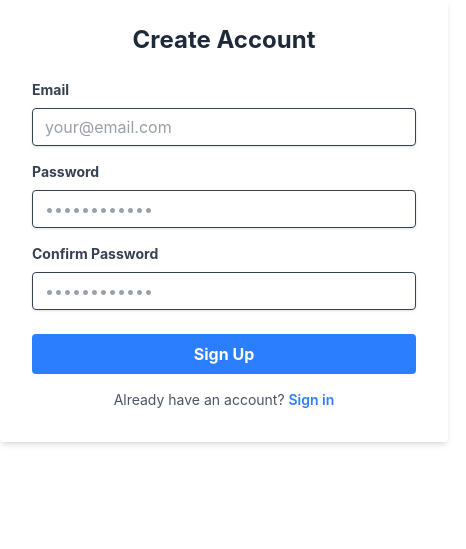
Test: RegisterForm › shows error when passwords do not match
Type "test@example.com" into the field labelled "Email" at (224, 127), box [32, 108, 416, 146]
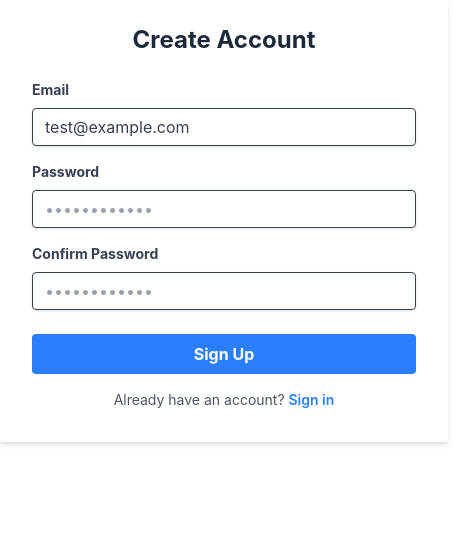
Type "ValidPassword123!" into the password field labelled "Password" at (224, 209), box [32, 190, 416, 228]
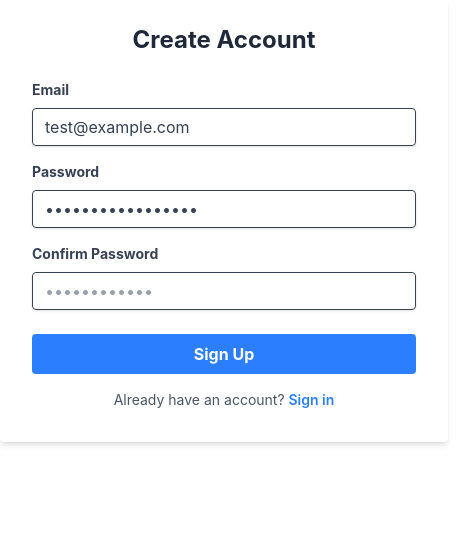
Type "DifferentPassword123!" into the password field labelled "Confirm Password" at (224, 291), box [32, 272, 416, 310]
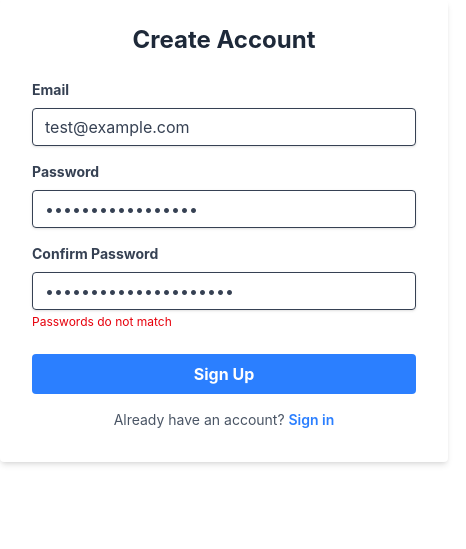
Click the button "Sign Up" at (224, 374), box [32, 354, 416, 394]
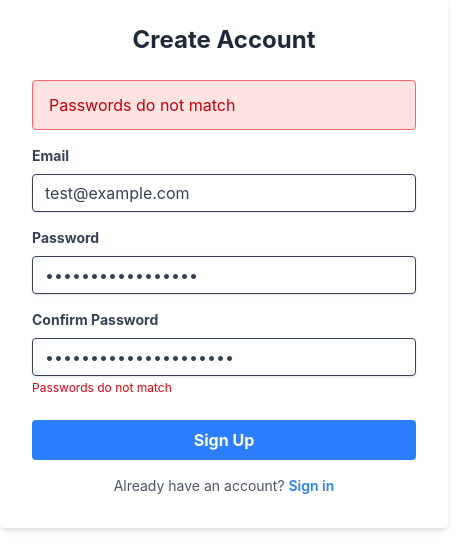
Expected: the 1st text "Passwords do not match" is shown, [32, 80, 416, 130]
